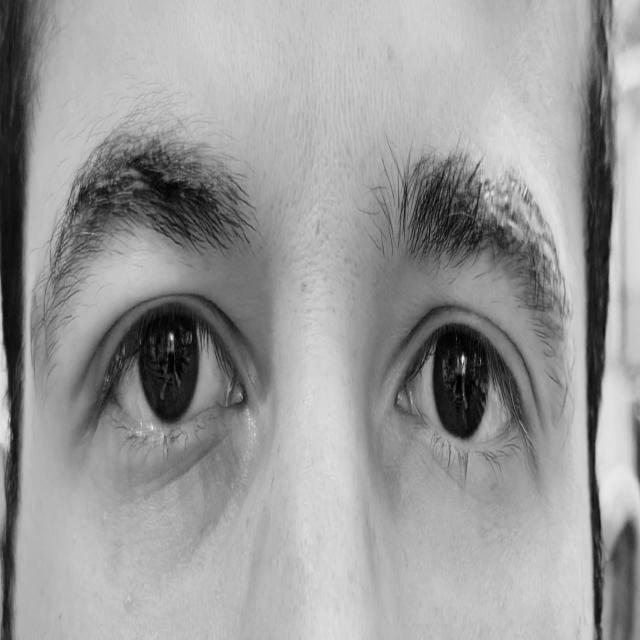real: (40, 190, 578, 524)
